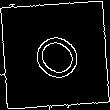O_SE: (21, 22, 89, 88)
